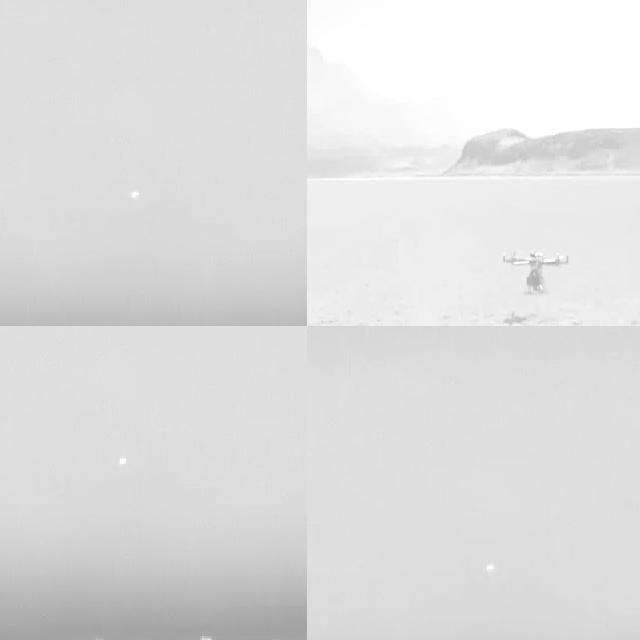1: (477, 554, 511, 589), (110, 449, 142, 481), (124, 182, 154, 212)
drone: (501, 248, 572, 296)
